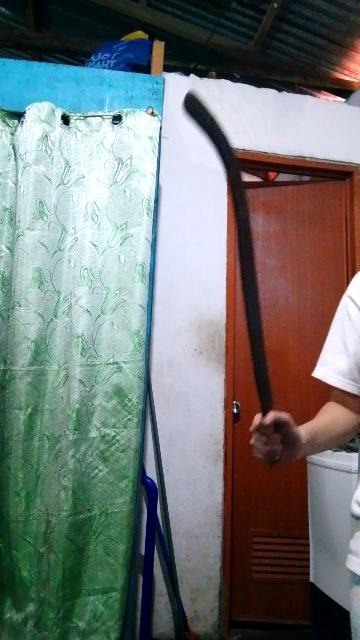long knife: (172, 92, 304, 466)
